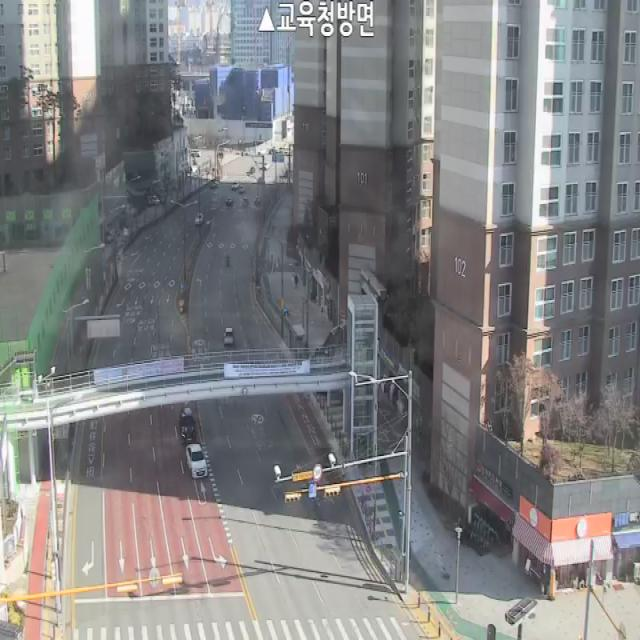Car: (186, 444, 208, 478), (180, 407, 196, 444), (224, 328, 235, 345), (196, 213, 203, 224), (225, 198, 233, 206), (254, 196, 261, 204), (244, 197, 248, 206)
